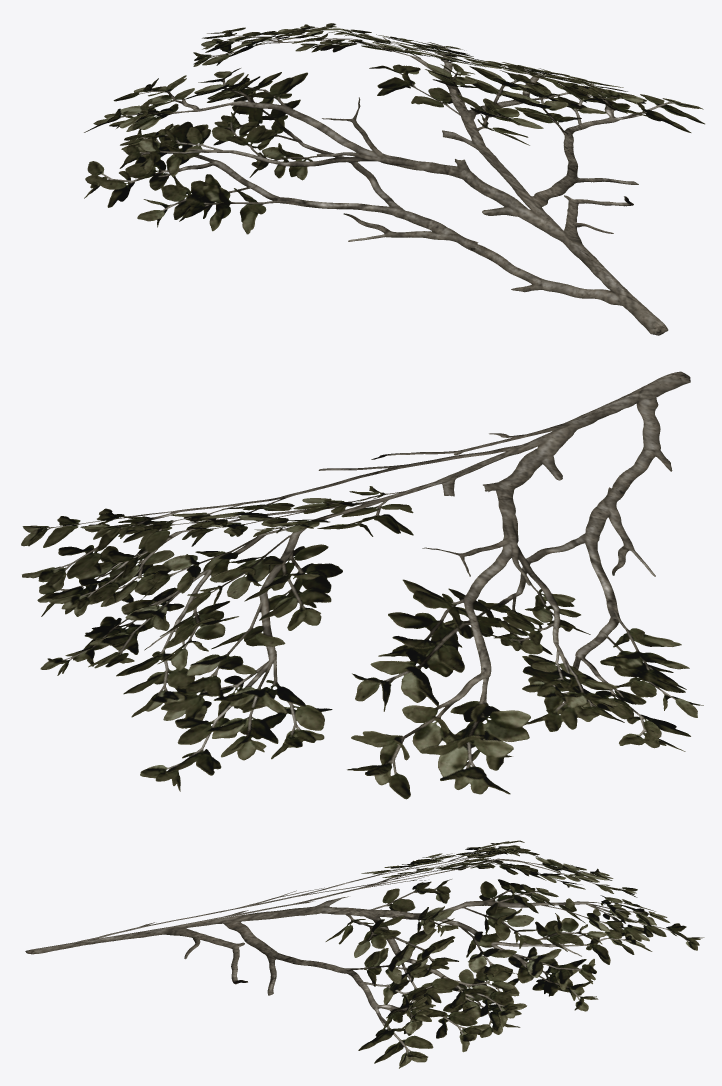
File: TI_Bush_02_Part_07.fbx
The picture shows the model from 3 angles, top to bottom: view 1: azimuth 30°, elevation 25°; view 2: azimuth 150°, elevation 25°; view 3: azimuth 270°, elevation 25°; orthographic projection. The views are drawn at different scales.
Parts seen in each view (by area): view 1: TI_Bush_02_Part_07; view 2: TI_Bush_02_Part_07; view 3: TI_Bush_02_Part_07.
Part boxes in pixels (left/top/right/bottom): TI_Bush_02_Part_07: left=84, top=23, right=704, bottom=335; TI_Bush_02_Part_07: left=21, top=371, right=703, bottom=799; TI_Bush_02_Part_07: left=25, top=840, right=704, bottom=1068.
Bounding box in the file's own units: 1.41 × 0.2172 × 1.72.
